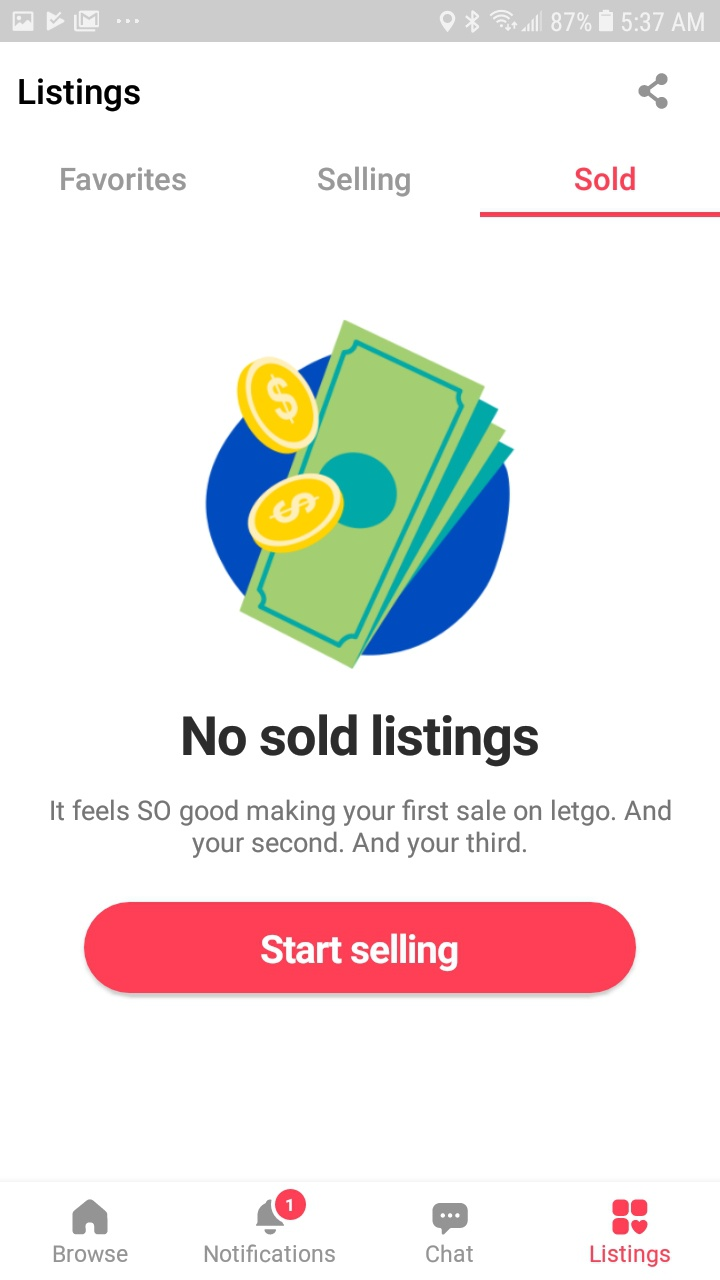Icon: (256, 1188, 307, 1235), (72, 1198, 109, 1235), (611, 1199, 649, 1235), (432, 1202, 469, 1236), (638, 73, 669, 110)
Image: (205, 320, 515, 670)
Text: (51, 798, 672, 859), (183, 714, 539, 768), (19, 78, 141, 113), (61, 167, 187, 192), (318, 166, 411, 198), (205, 1243, 336, 1263), (590, 1244, 671, 1268), (575, 166, 636, 192), (54, 1244, 129, 1263), (426, 1244, 474, 1263)
TextButton: (84, 902, 637, 994)
UpperTaskBar: (1, 1, 720, 43)
